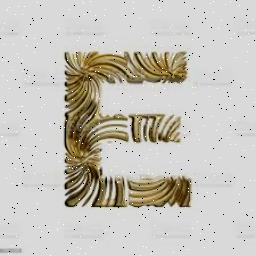e: (60, 47, 198, 215)
